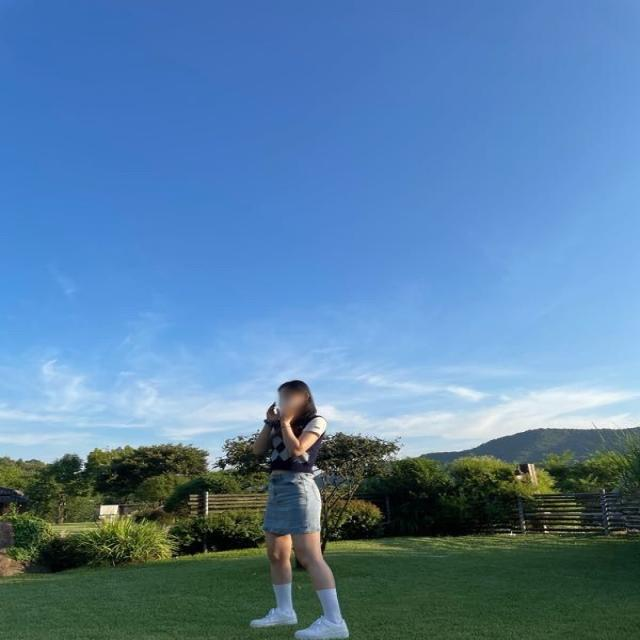shortsleeve: (258, 412, 322, 470)
skirt: (268, 469, 321, 538)
